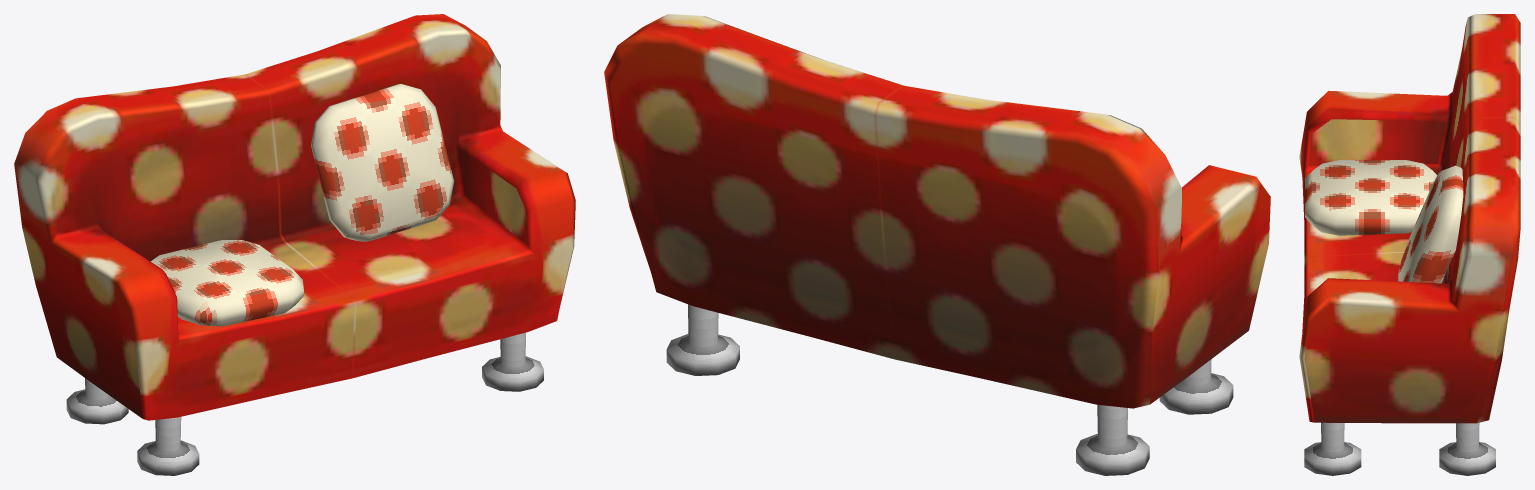
The model's file is rmk_dot_chairL.dae.
3 renders of one model, left to right at view 1: azimuth 30°, elevation 25°; view 2: azimuth 150°, elevation 25°; view 3: azimuth 270°, elevation 25°, orthographic. The views are drawn at different scales.
Visible parts, largest first — view 1: rmk_dot_chairL; view 2: rmk_dot_chairL; view 3: rmk_dot_chairL.
Boxes of the visible parts, x1,y1,x2,y2 form: rmk_dot_chairL: [14, 14, 575, 475]; rmk_dot_chairL: [604, 14, 1270, 475]; rmk_dot_chairL: [1299, 14, 1520, 475].
Size of the model in its own units: 59.23 by 35.76 by 25.46.
Materials: 3 (3 with a texture image).
